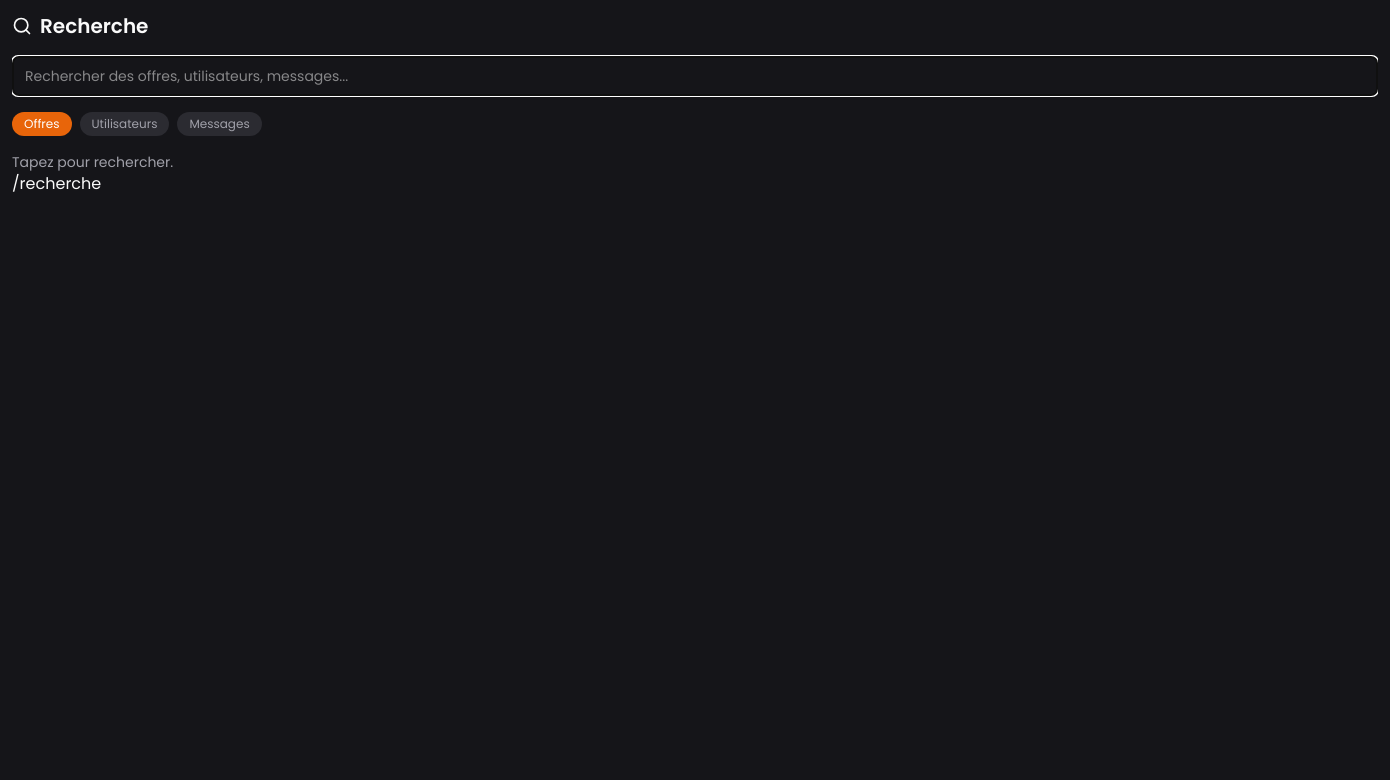
Test: Alertes emploi › ouvre le formulaire depuis une recherche d'offres sans résultat
Type "emploi introuvable" into the field with placeholder "Rechercher des offres, utilisateurs, messages...".
click(695, 76); type("emploi introuvable")  # box top-left (12, 56), bottom-right (1378, 96)
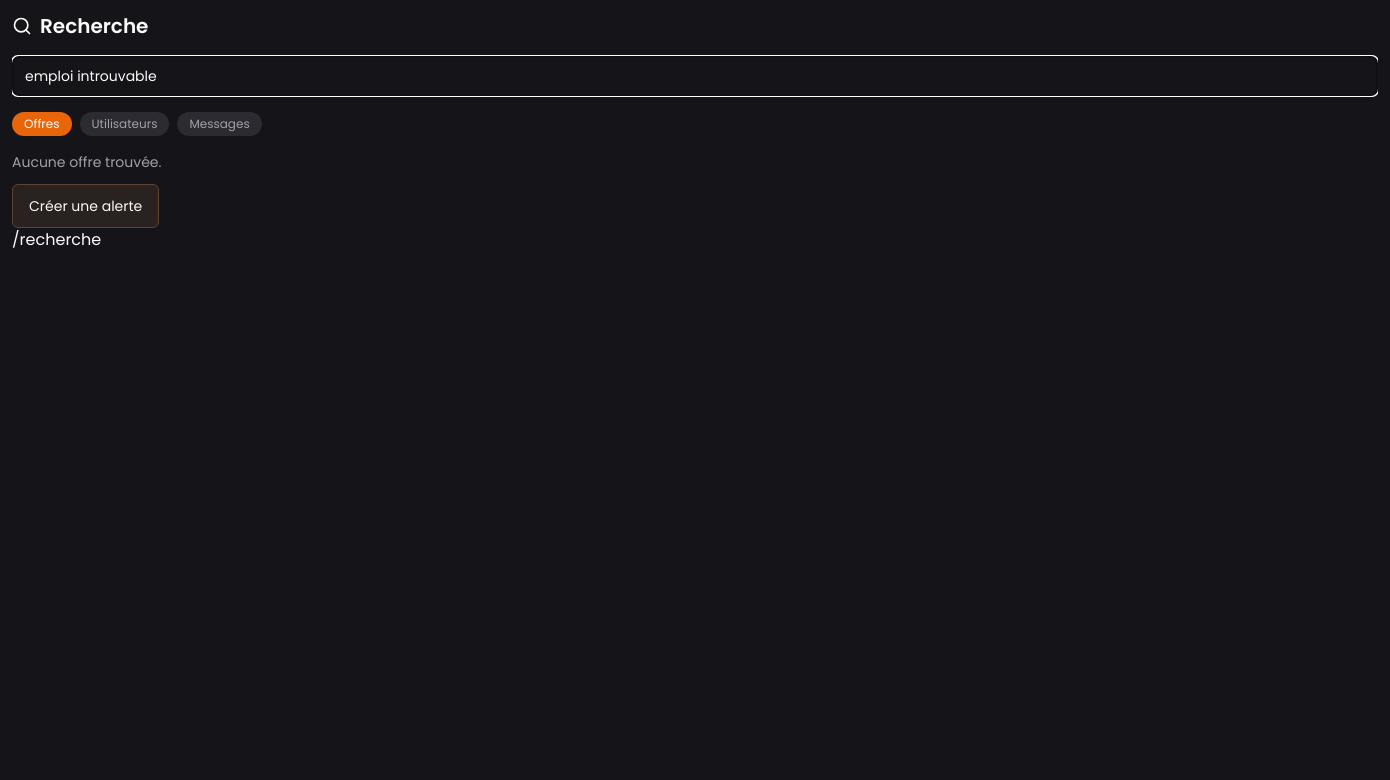
Click the button "Créer une alerte".
click(86, 206)  # box top-left (12, 184), bottom-right (159, 228)
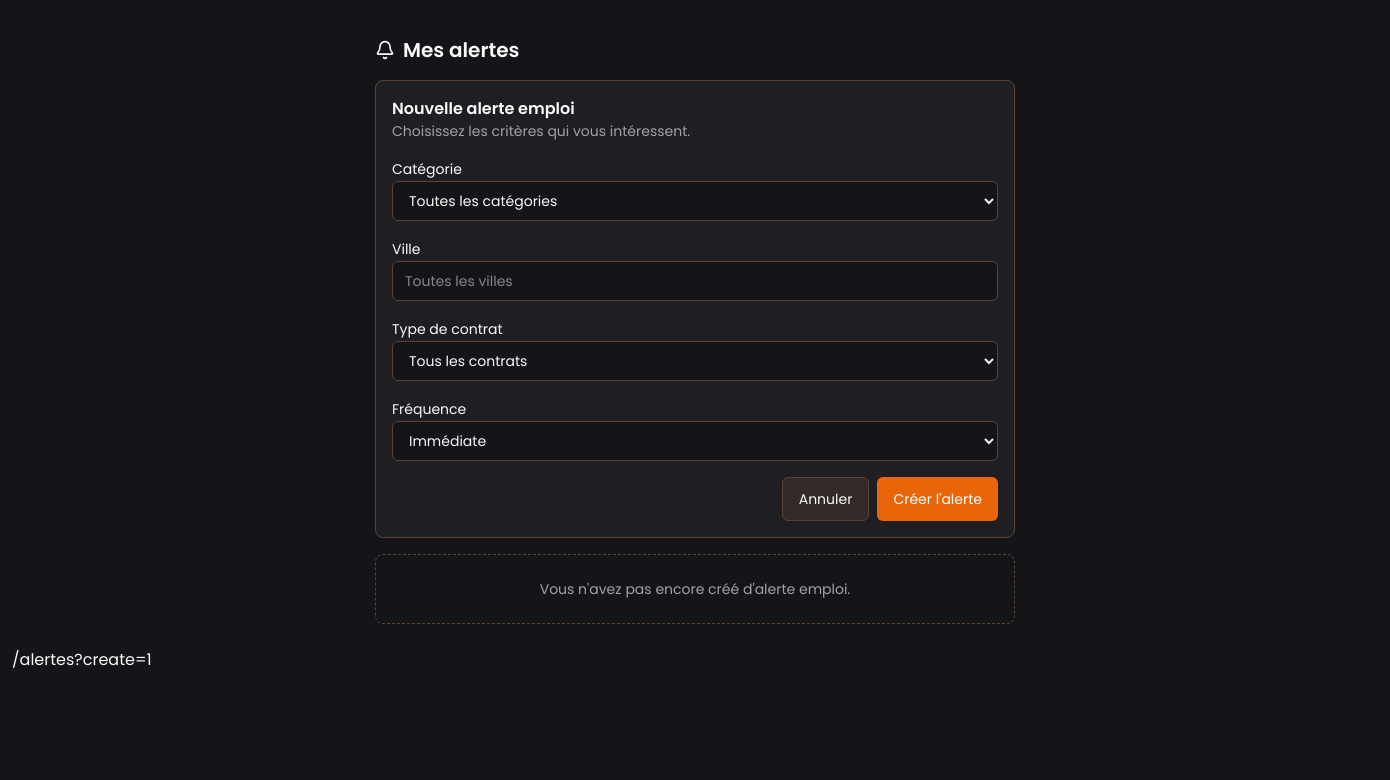
Expected: the text with test id "location" reads "/alertes?create=1", top-left (12, 648), bottom-right (152, 671)
Expected: the heading "Nouvelle alerte emploi" is shown, top-left (392, 97), bottom-right (575, 120)
